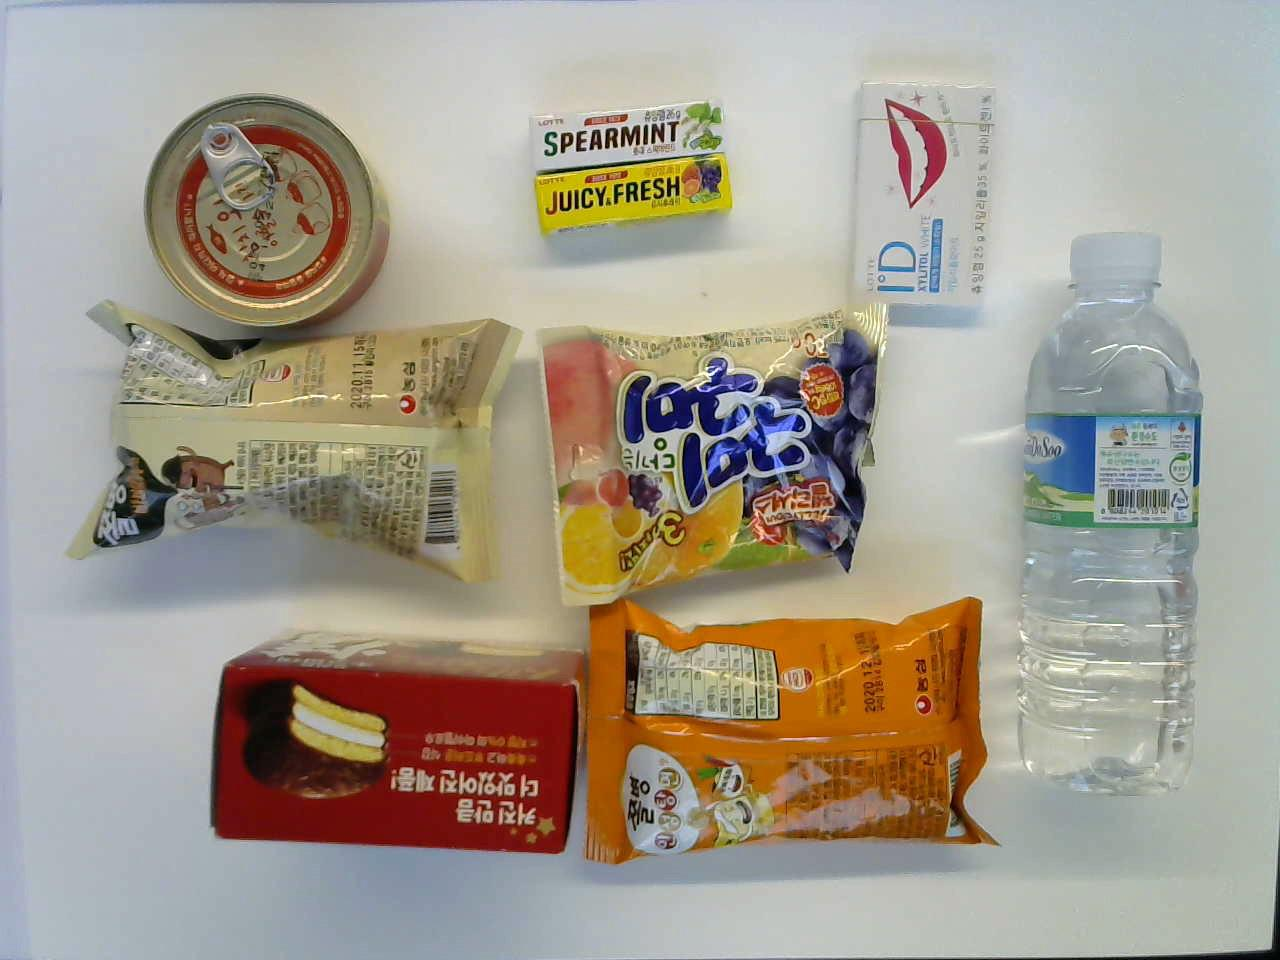ID_gum: (841, 83, 1000, 311)
chocopie: (214, 624, 587, 876)
gumi_gumi: (546, 298, 897, 605)
jjolbyung_noodle: (558, 597, 1003, 852)
jjolbyung_ori: (67, 298, 524, 582)
juicyfresh: (528, 154, 745, 242)
samdasu: (1014, 227, 1205, 797)
spearmint: (520, 98, 742, 174)
tuna: (135, 93, 387, 330)
